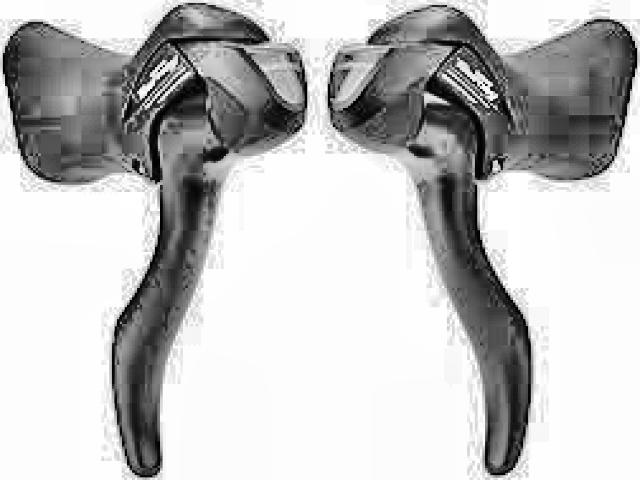sti_shifter: (2, 5, 310, 479), (326, 4, 639, 469)
